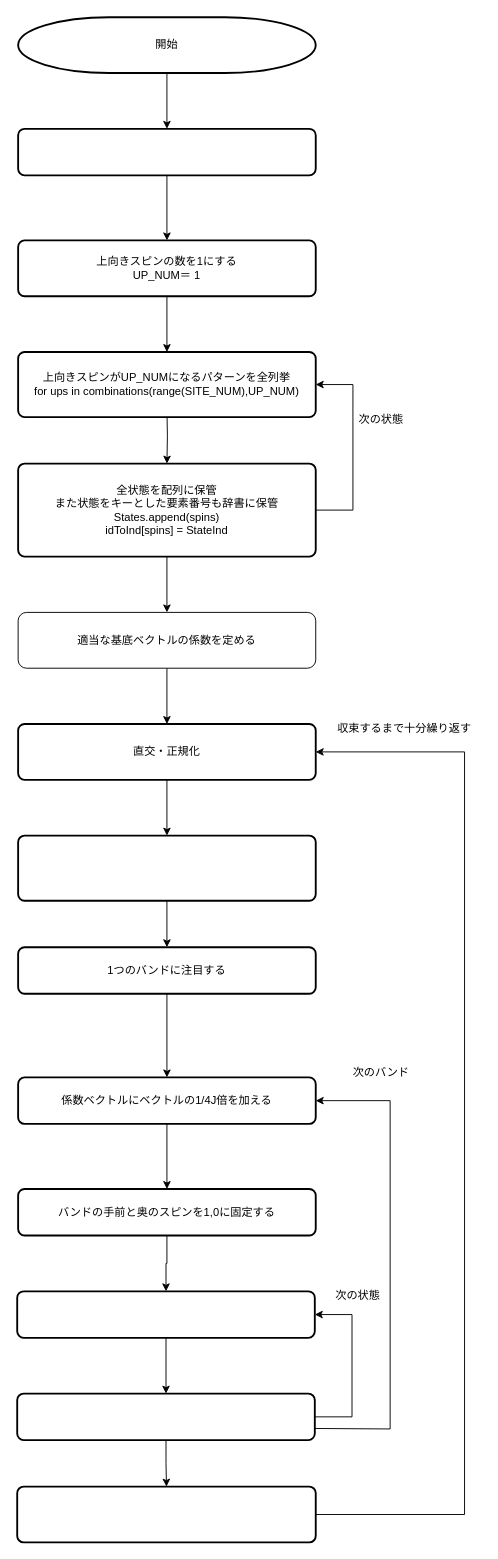
Some shapes in this 498 by 1559 pixel diagram are drawn without their labels. Each missing label, with the centre of its shape:
"そのような状態とフリップ状態で適切な係数を加える" goes at [165,1416].
"他のサイトの状態をUP_SITEの数を満たすように状態を選ぶ" goes at [165,1314].
"新しい係数ベクトルを0で埋める ret_hamil = np.full(len(vecData),0,dtype = np.complex128)" goes at [166,867].
"新しい係数ベクトルを返却する" goes at [166,1514].
"系の入力 setter()" goes at [166,151].
